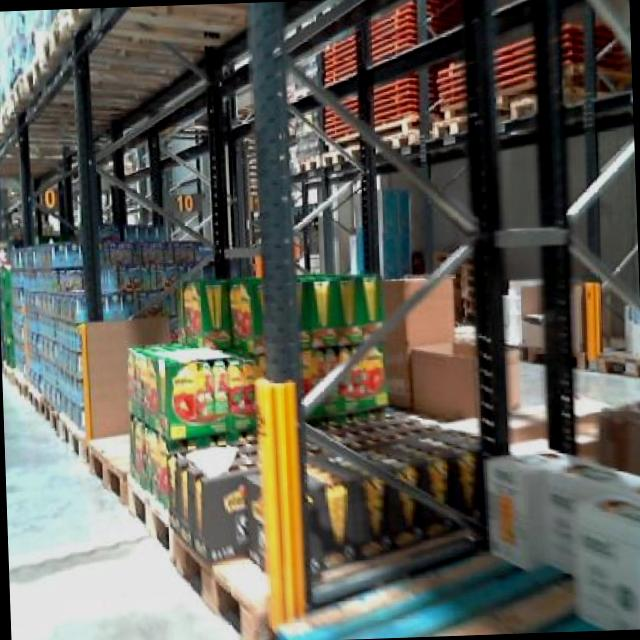pallet: (174, 526, 271, 640), (130, 486, 176, 552), (85, 434, 127, 501)
